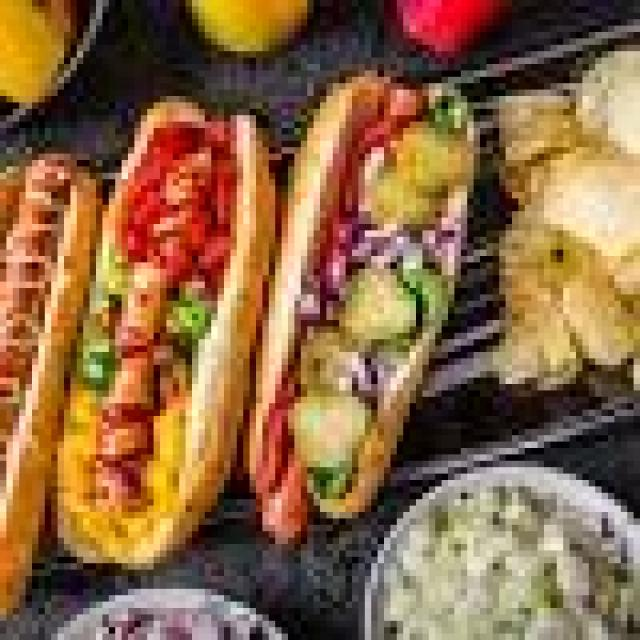Hot Dog: (0, 129, 560, 530)
